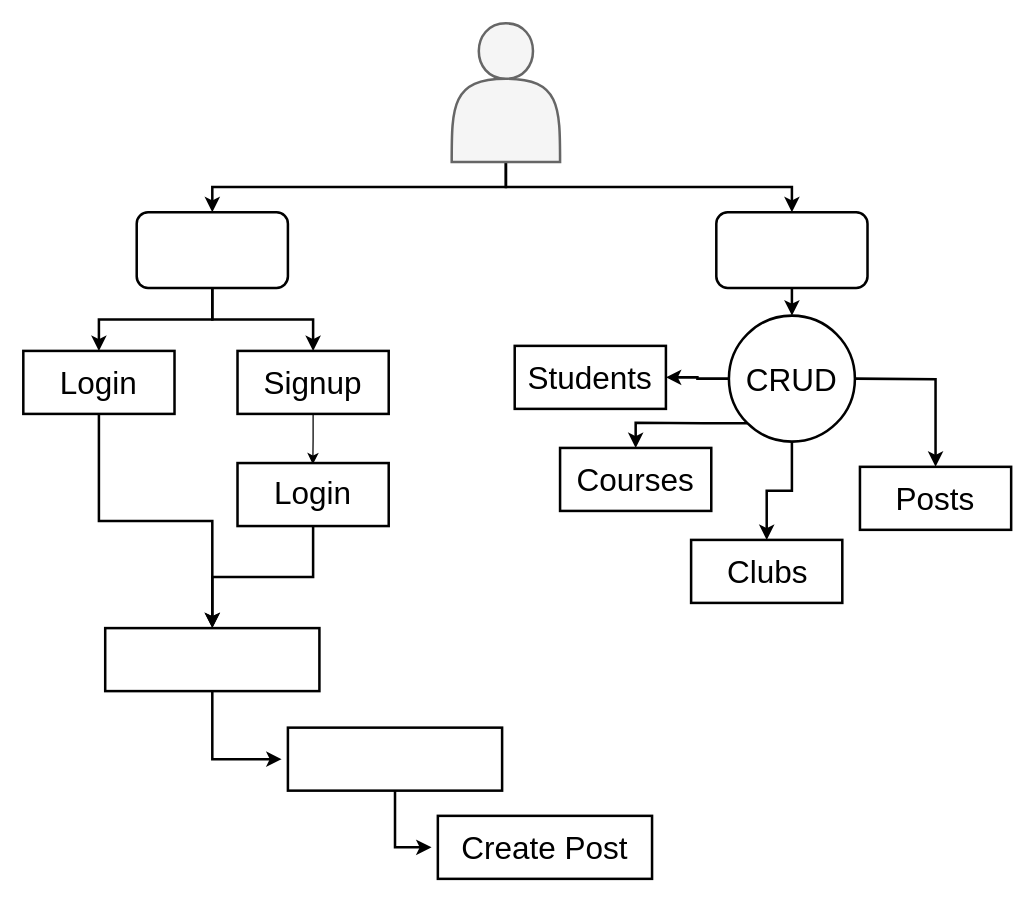
The diagram is 1033 pixels wide and 901 high, and some of its shapes have lost their labels. Here are the shapes that lost their labels. From the top down, the centre of each, then its label:
At (212,249): "User".
At (791,249): "Admin".
At (211,659): "Edit Profile".
At (394,758): "Home".
